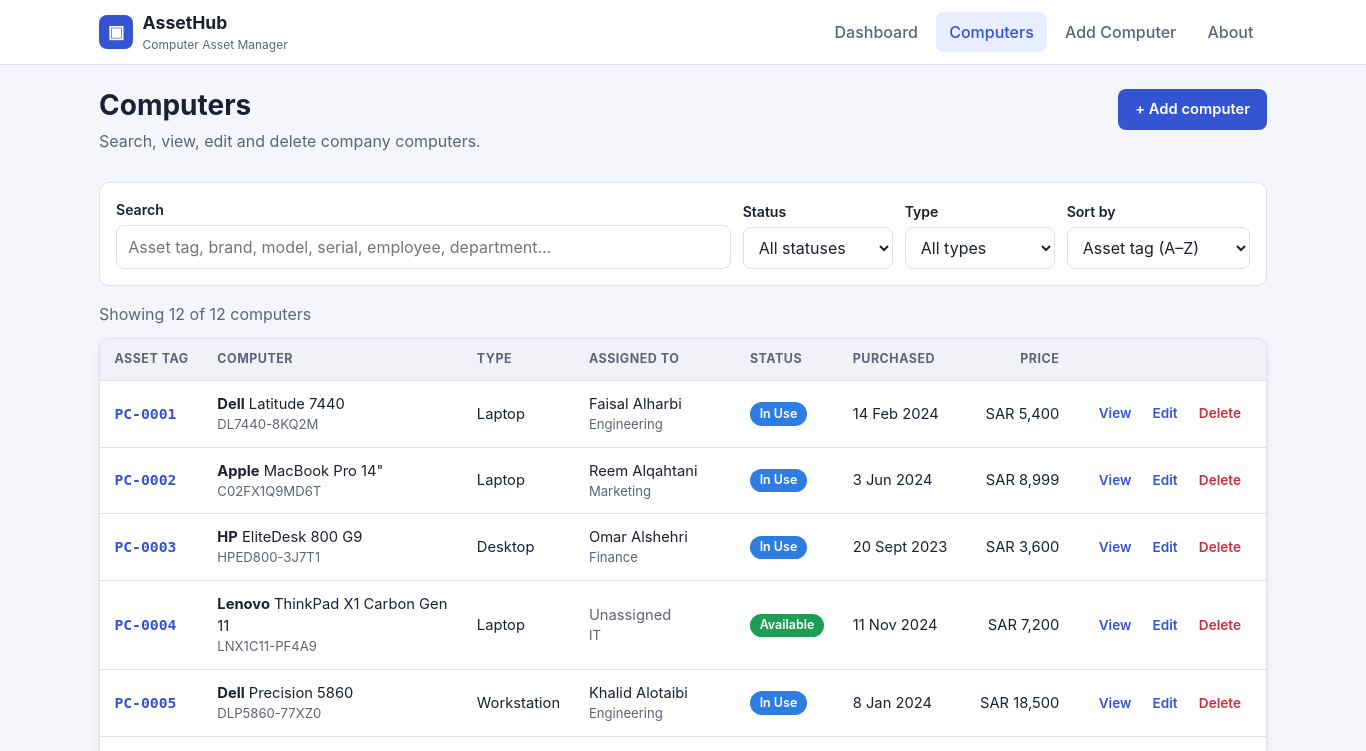
Test case: display and search › shows an empty state when nothing matches
This screenshot has width=1366, height=751.
Type "zzzz" into the search field labelled "Search" at point(423, 247), box [116, 225, 731, 269]
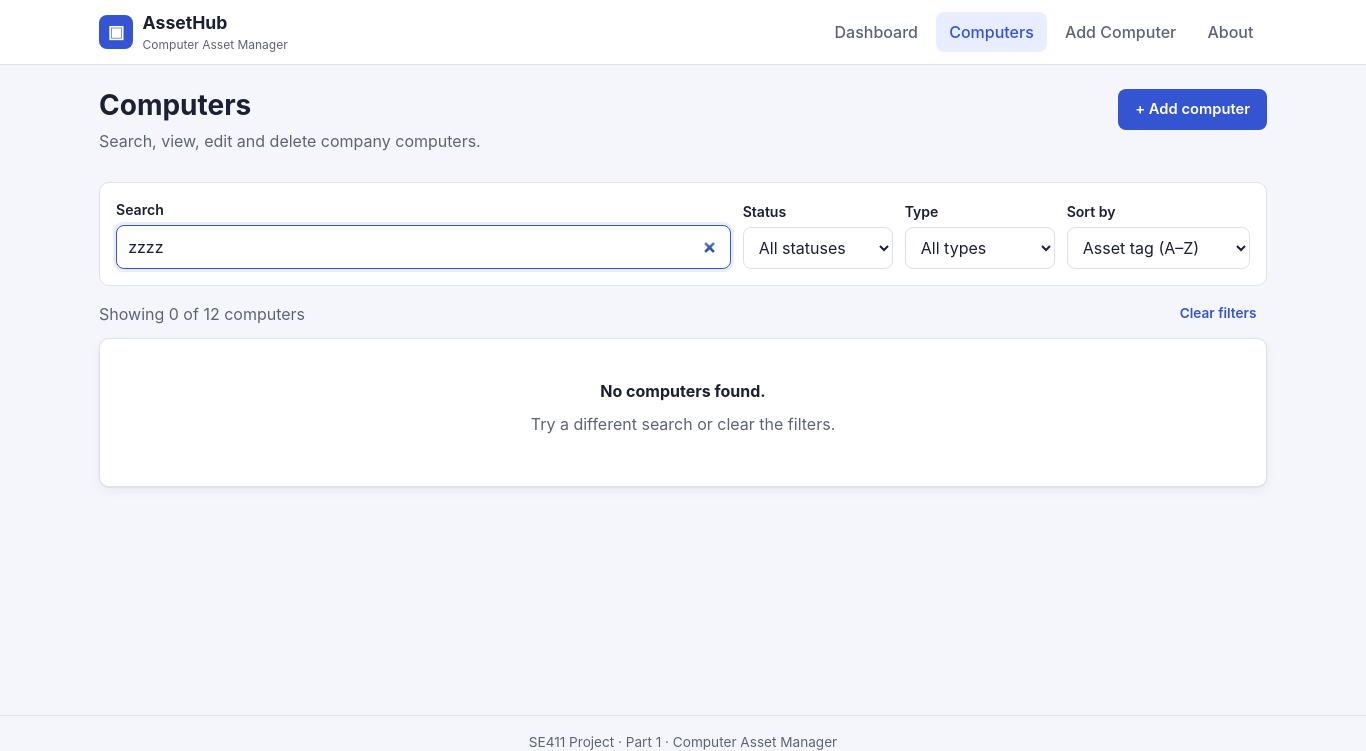
Now the text "No computers found." is shown, box [600, 381, 766, 401]
